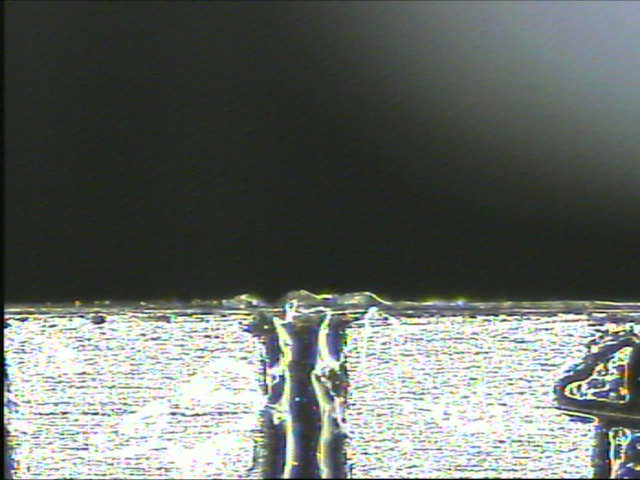line: (259, 305, 351, 478)
